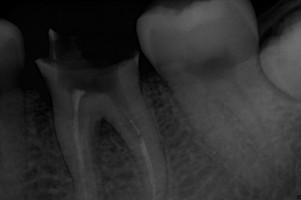Endo-Periodontal Lesion: (92, 117, 134, 168)
